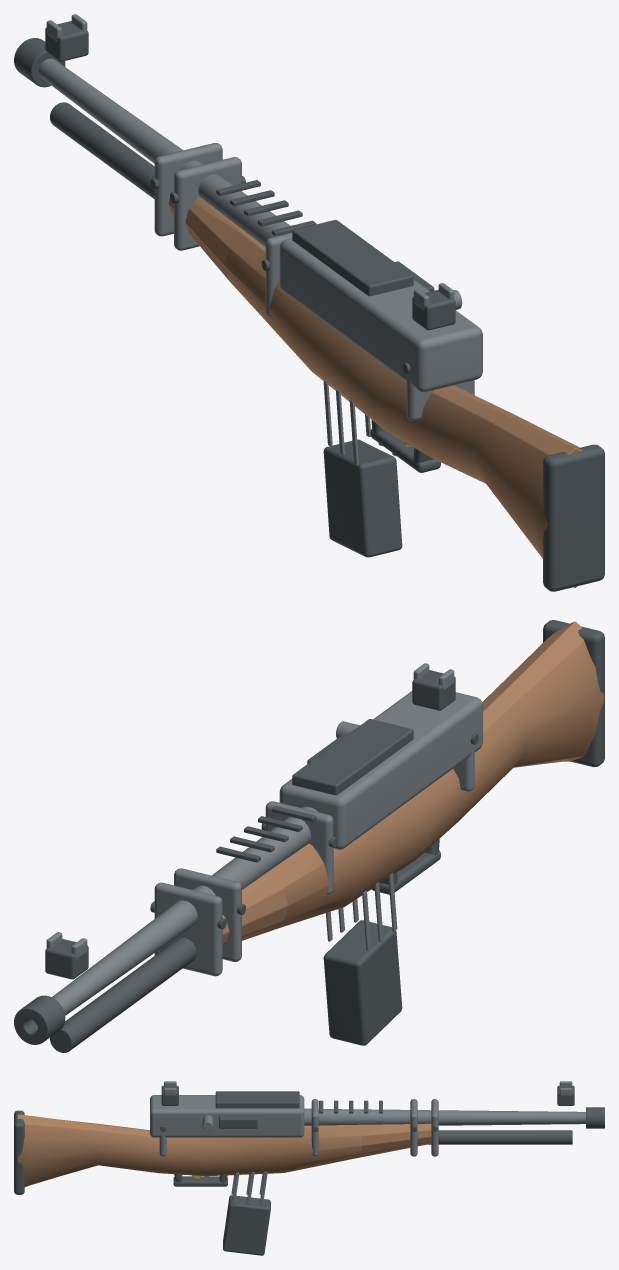
3 renders of one model, top to bottom at view 1: azimuth 30°, elevation 25°; view 2: azimuth 150°, elevation 25°; view 3: azimuth 270°, elevation 25°, orthographic. The views are drawn at different scales.
Visible parts, largest first — view 1: Steel, Wood, Dark, DarkMagazine, SteelMagazine; view 2: Steel, Wood, Dark, DarkMagazine, SteelMagazine; view 3: Wood, Steel, Dark, DarkMagazine, SteelMagazine.
Part boxes in pixels (x1,y1,x2,y2): Steel: (39, 14, 482, 420); Wood: (168, 189, 582, 587); Dark: (14, 21, 604, 591); DarkMagazine: (323, 439, 402, 557); SteelMagazine: (323, 380, 396, 465); Steel: (34, 663, 482, 1025); Wood: (222, 621, 604, 944); Dark: (14, 620, 604, 1052); DarkMagazine: (323, 920, 402, 1045); SteelMagazine: (326, 872, 397, 950); Wood: (17, 1114, 431, 1187); Steel: (150, 1081, 585, 1156); Dark: (14, 1085, 604, 1194); DarkMagazine: (223, 1195, 270, 1255); SteelMagazine: (231, 1171, 267, 1204).
Bounding box in the file's own units: 0.0981 × 0.3071 × 0.987.
